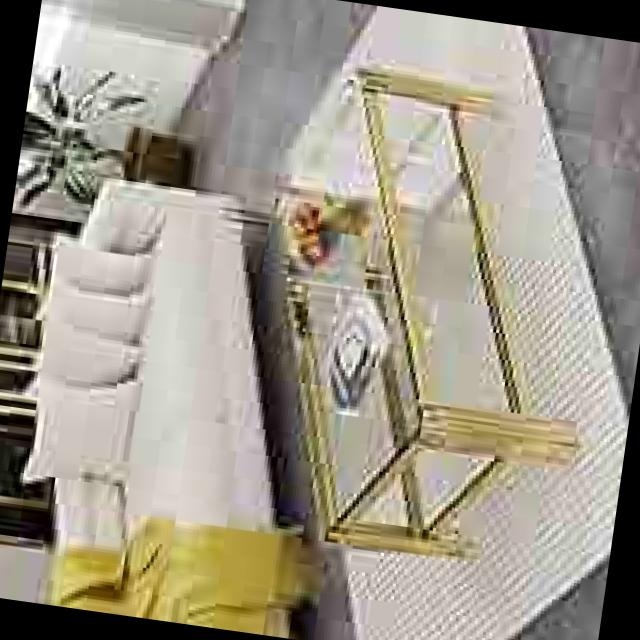glass: (227, 15, 457, 544)
